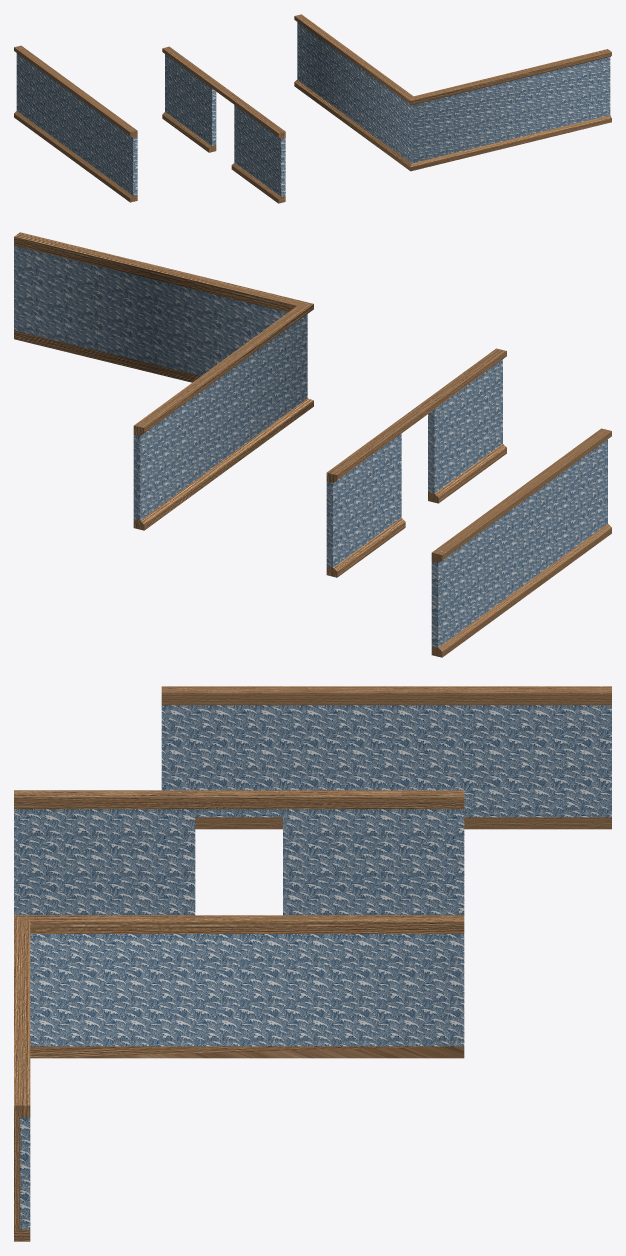
The model's file is wallSet5.FBX.
The picture shows the model from 3 angles, top to bottom: view 1: azimuth 30°, elevation 25°; view 2: azimuth 150°, elevation 25°; view 3: azimuth 270°, elevation 25°; orthographic projection. The views are drawn at different scales.
Parts seen in each view (by area): view 1: Box002, Box001, Box003; view 2: Box002, Box001, Box003; view 3: Box002, Box001, Box003.
Boxes of the visible parts, x1,y1,x2,y2 form: Box002: (294, 14, 611, 171); Box001: (14, 45, 137, 202); Box003: (162, 46, 285, 203); Box002: (14, 232, 313, 530); Box001: (431, 428, 611, 657); Box003: (326, 348, 506, 577); Box002: (14, 915, 464, 1241); Box001: (161, 686, 611, 829); Box003: (14, 790, 464, 915).
Bounding box in the file's own units: 793 × 120 × 478.
1 material, 1 textured.
